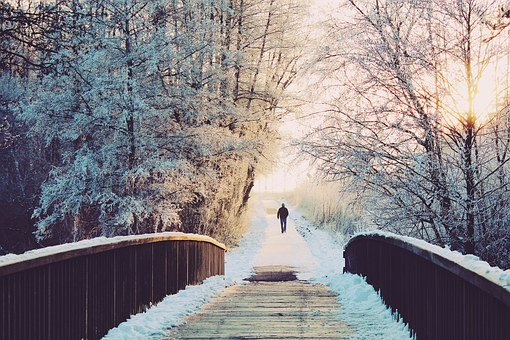forest: (14, 10, 510, 339)
